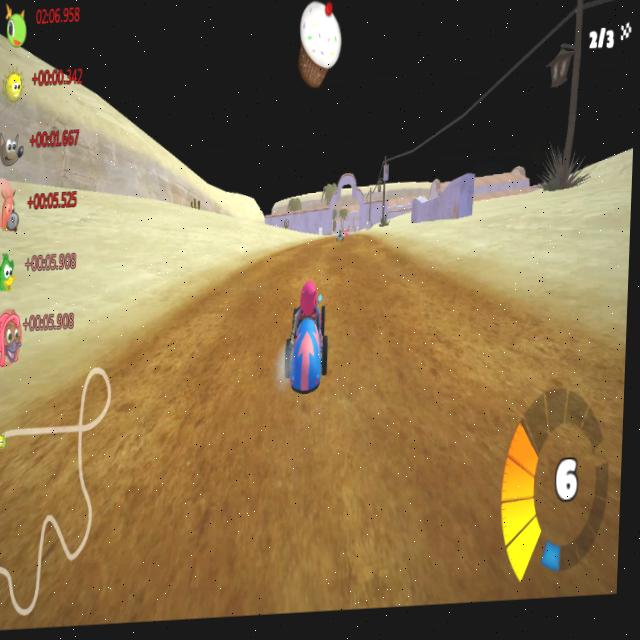enemy_kart: (333, 226, 348, 243)
player_kart: (279, 281, 334, 406)
track: (0, 396, 624, 626), (329, 273, 506, 422), (105, 322, 282, 421), (503, 308, 627, 406), (258, 240, 434, 288), (182, 277, 282, 329), (348, 226, 371, 245), (315, 232, 333, 243)
